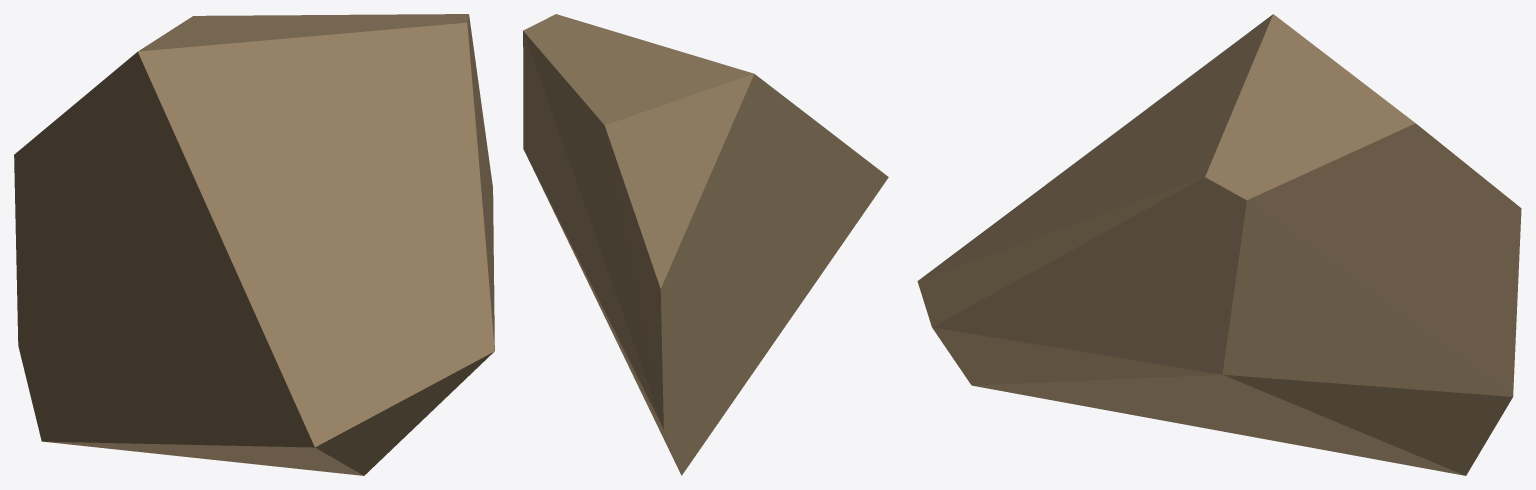
The model's file is Rock02.fbx.
3 views of the same model, side by side, from view 1: azimuth 30°, elevation 25°; view 2: azimuth 150°, elevation 25°; view 3: azimuth 270°, elevation 25° (orthographic). The views are drawn at different scales.
Visible parts, largest first — view 1: Rock02; view 2: Rock02; view 3: Rock02.
Part boxes in pixels (box(x1,y1,x2,y2)): Rock02: box(14, 14, 494, 475); Rock02: box(523, 14, 888, 475); Rock02: box(917, 14, 1521, 475).
Size of the model in its own units: 5.53 by 7.37 by 8.73.
